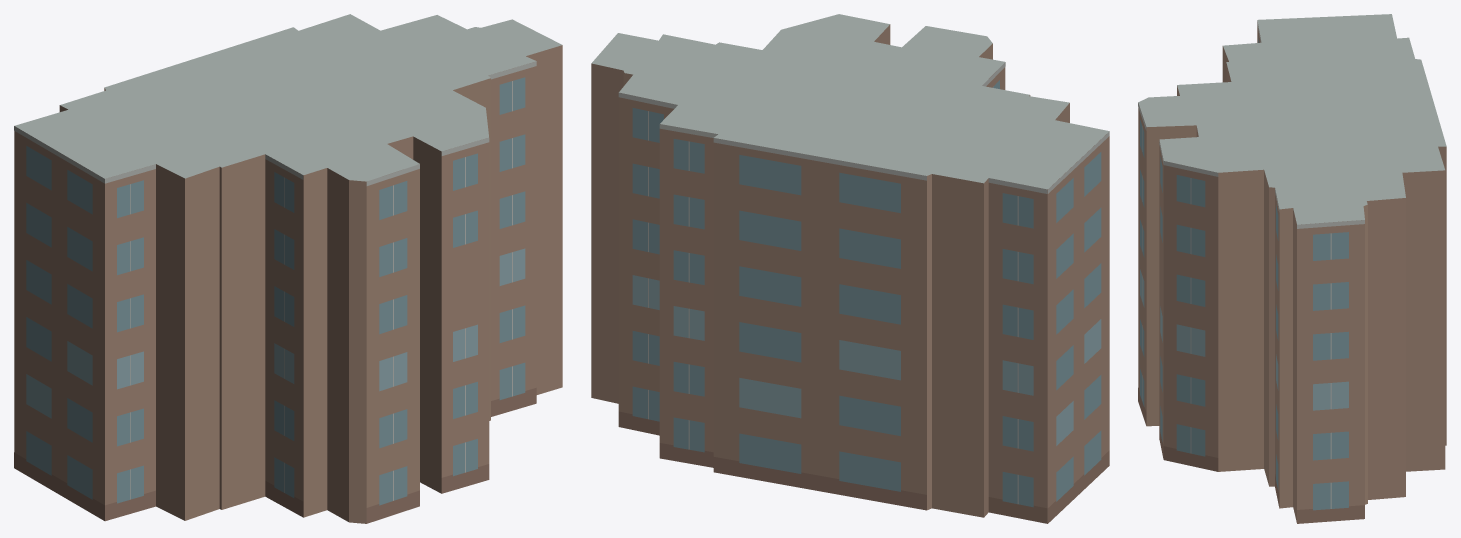
The model's file is survey-upis-33041414.glb.
3 renders of one model, left to right at view 1: azimuth 30°, elevation 25°; view 2: azimuth 150°, elevation 25°; view 3: azimuth 270°, elevation 25°, orthographic. The views are drawn at different scales.
Visible parts, largest first — view 1: survey-upis-33041414.tmp; view 2: survey-upis-33041414.tmp; view 3: survey-upis-33041414.tmp.
Boxes of the visible parts, <box> form: survey-upis-33041414.tmp: <box>14,14,562,523</box>; survey-upis-33041414.tmp: <box>591,14,1109,523</box>; survey-upis-33041414.tmp: <box>1138,14,1446,523</box>.
Size of the model in its own units: 26.15 by 17.3 by 16.18.
